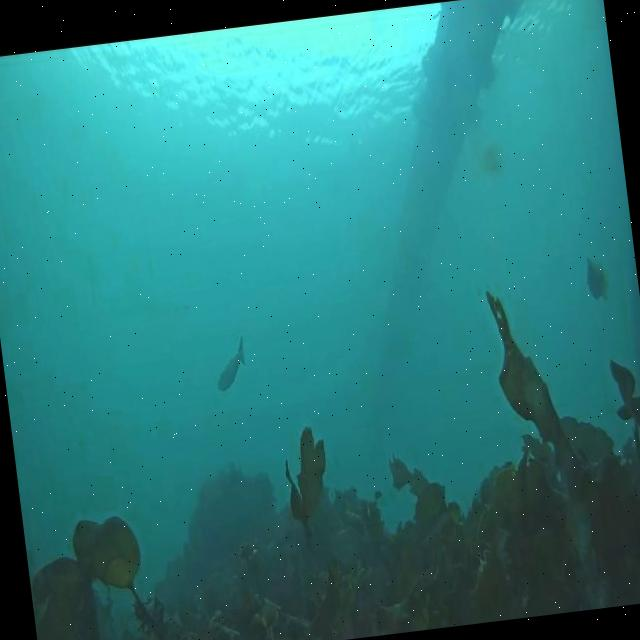fish: (210, 342, 250, 392), (583, 255, 611, 302)
